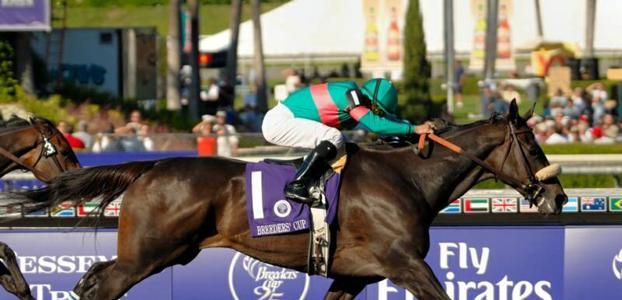person: (260, 76, 437, 205)
